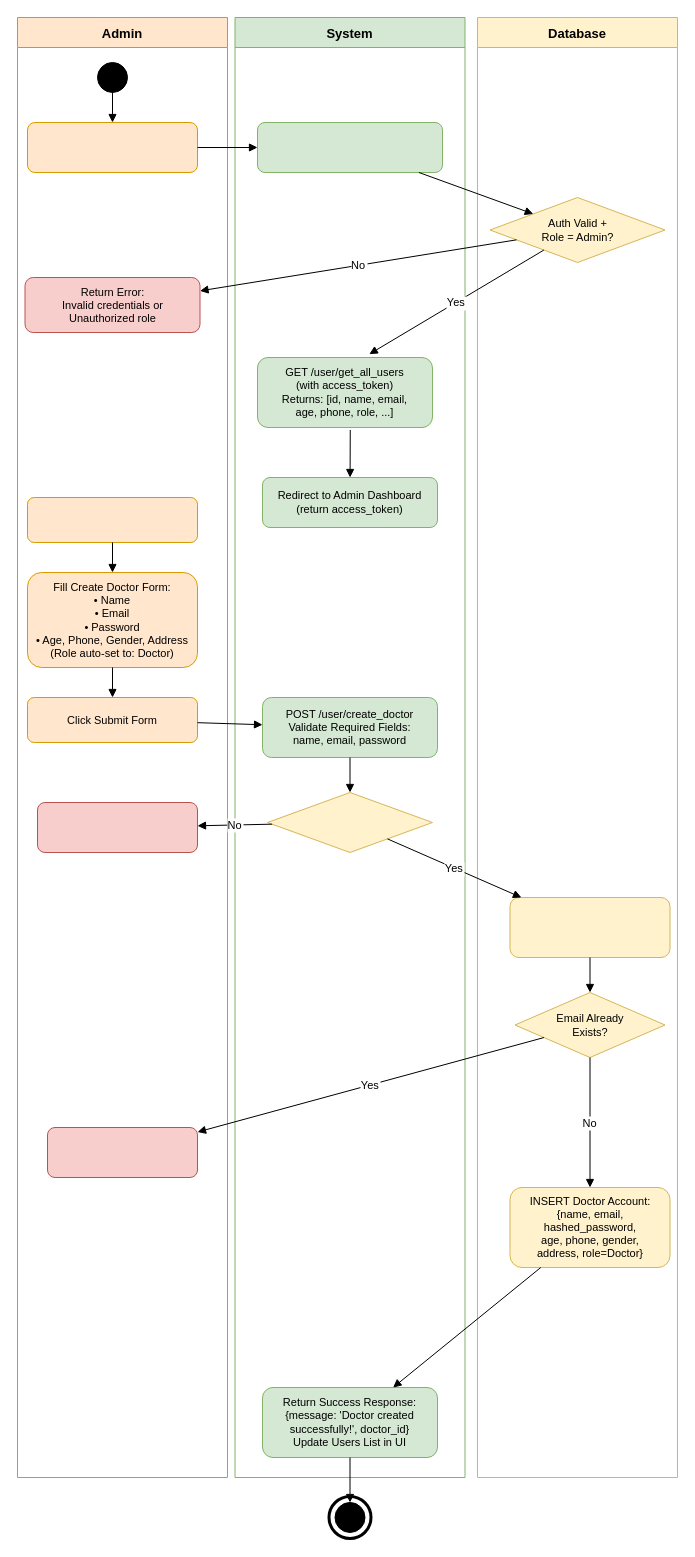
The diagram is 695 pixels wide and 1557 high, and some of its shapes have lost their labels. The shapes that lost their labels are listed below. From the top down, each one's centre as x and y in pixels, then its label:
the point at 112,147: Enter Credentials (email + password)
the point at 349,147: POST /user/login Verify credentials + role = admin
the point at 112,519: Click 'Create Doctor' Button
the point at 117,827: Show Validation Error (required fields missing)
the point at 349,822: Fields Valid?
the point at 589,927: Query DB: SELECT * WHERE email = ? Check if email exists
the point at 122,1152: Return Error: 'Email already in use'
